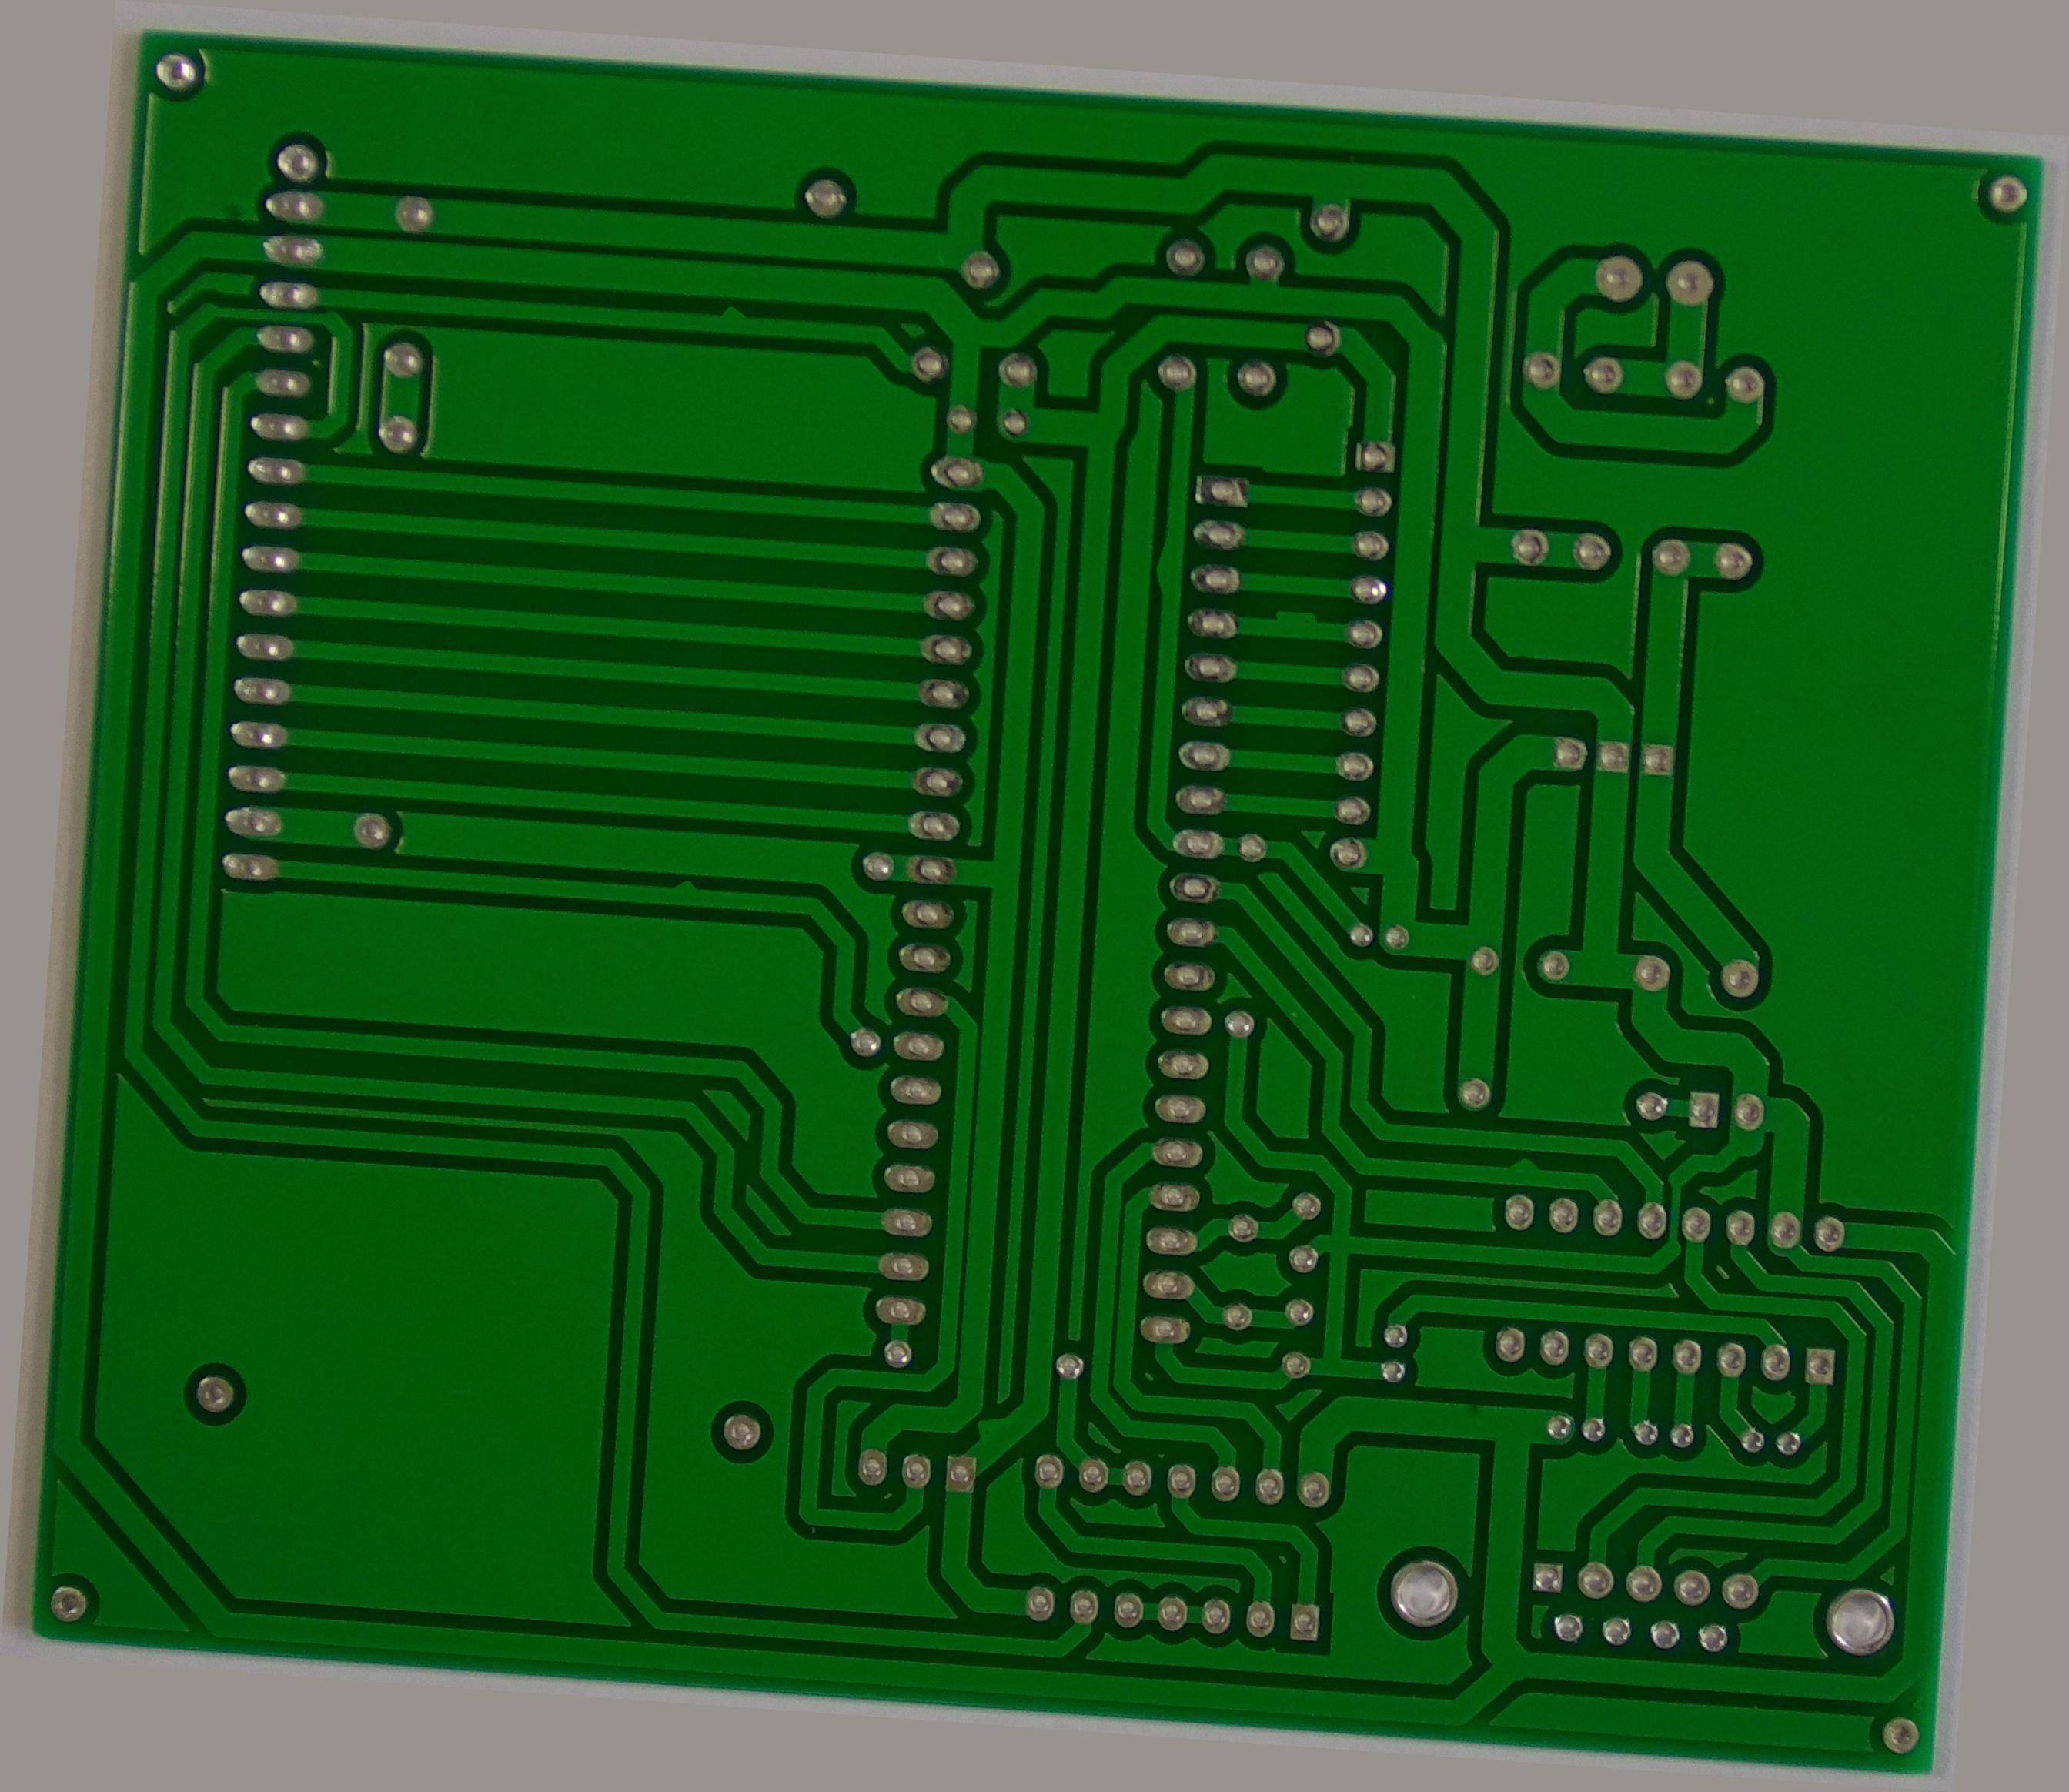spur: (1133, 494, 1166, 573), (1253, 556, 1323, 593), (637, 892, 686, 934), (644, 273, 695, 308), (1548, 1131, 1596, 1166)
